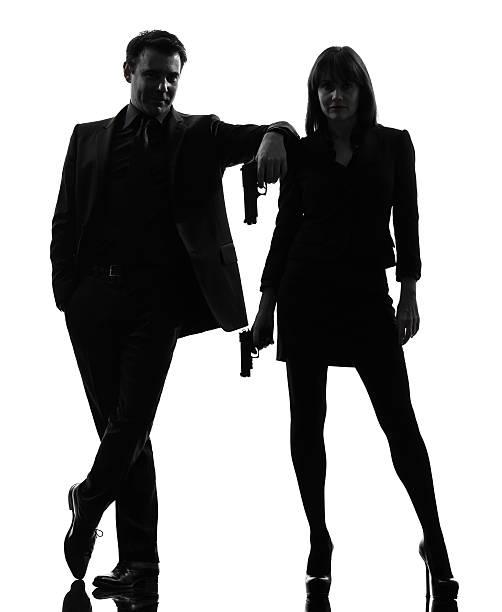weapon: (240, 155, 282, 224), (232, 320, 272, 377)
